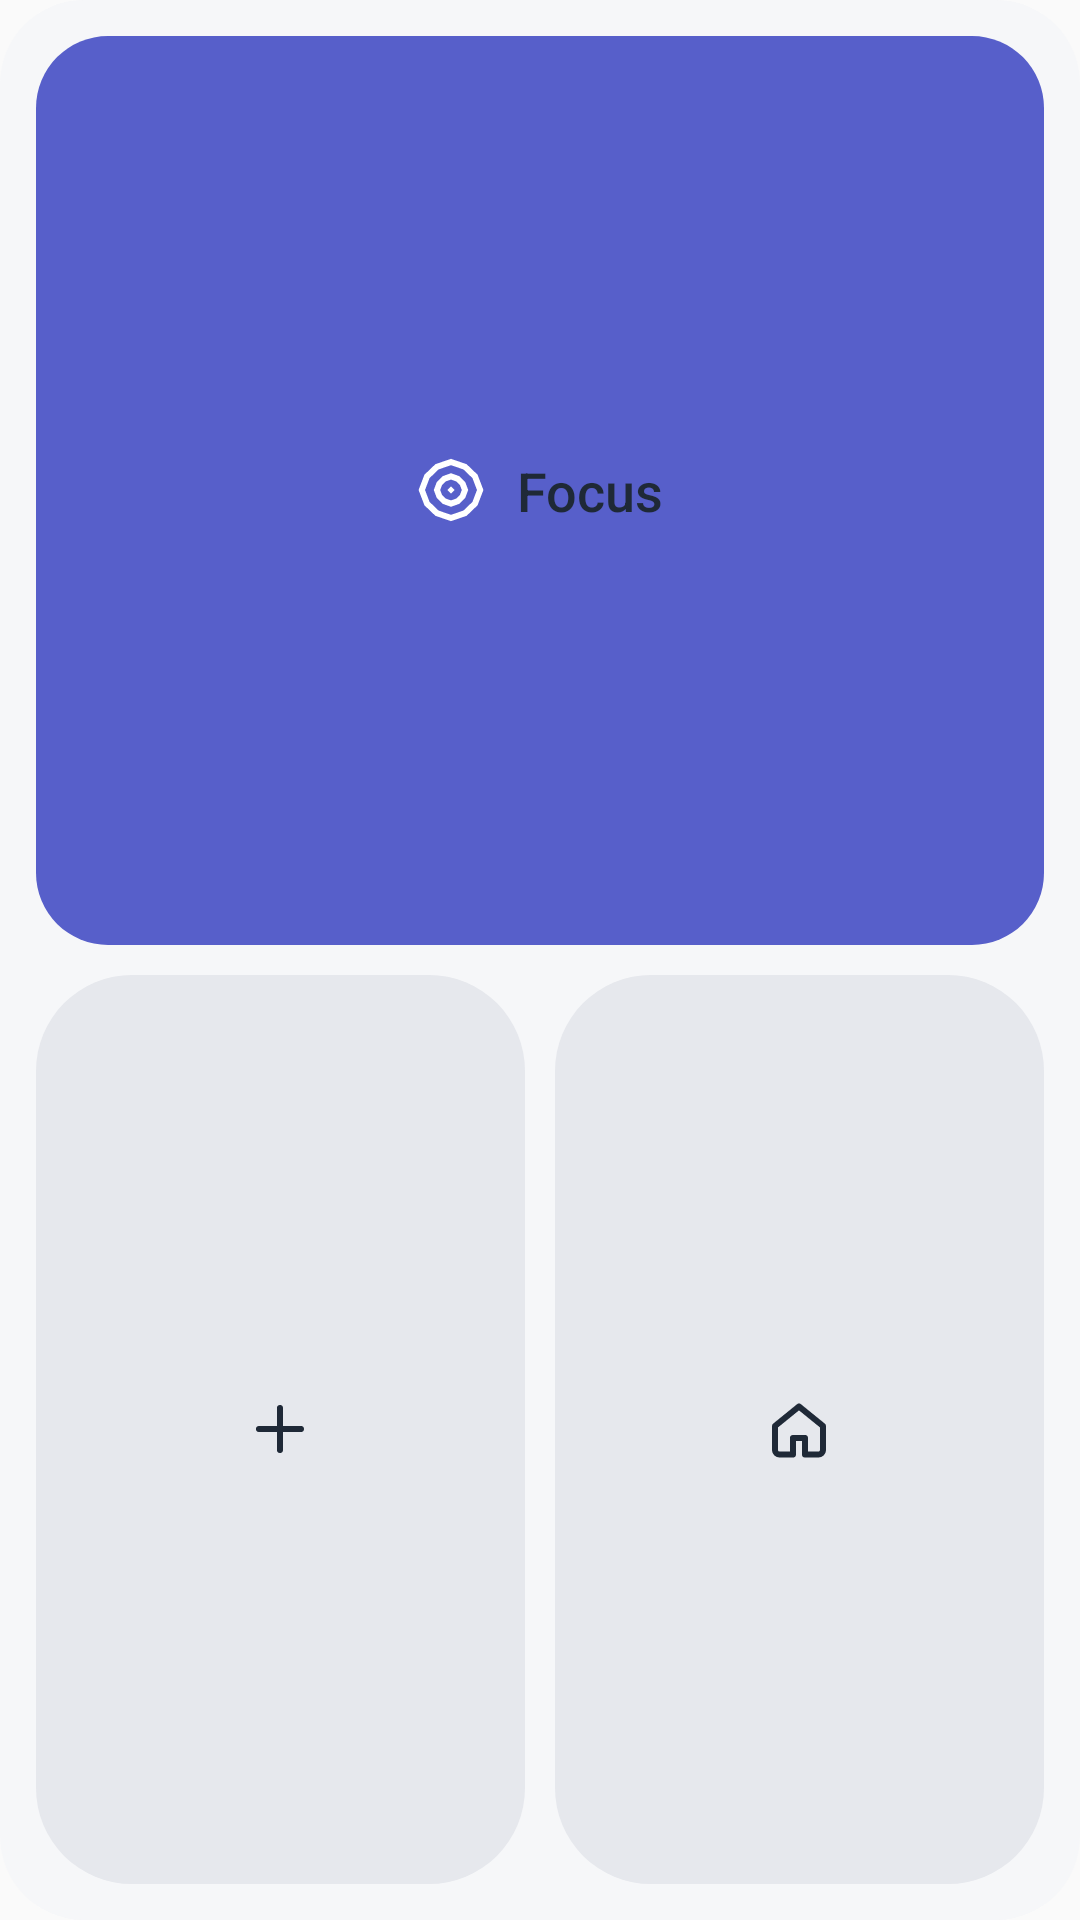

Screen size 1080w x 1920h. Icon name, then its center in pixels as (x=x, y=y):
widget add: (x=280, y=1429)
widget home: (x=799, y=1430)
